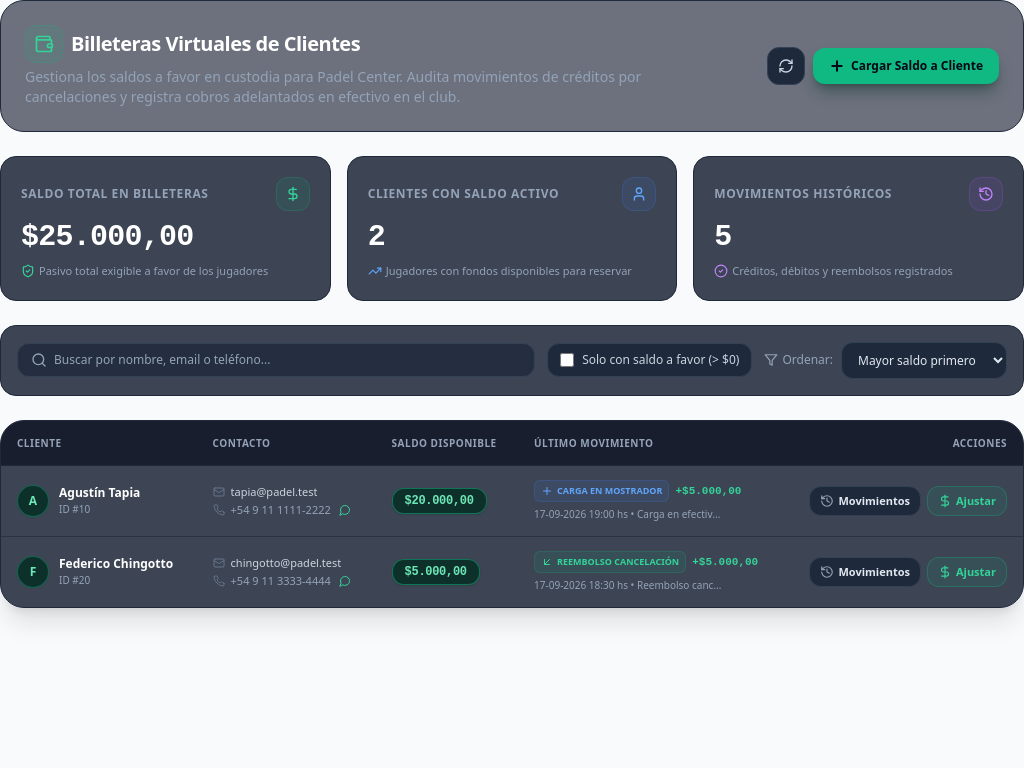
it: GestionBilleteras Component › abre el modal de movimientos al hacer clic en 'Movimientos'
Click the button with test id "btn-historial-10" at (865, 500), box [809,486,921,516]
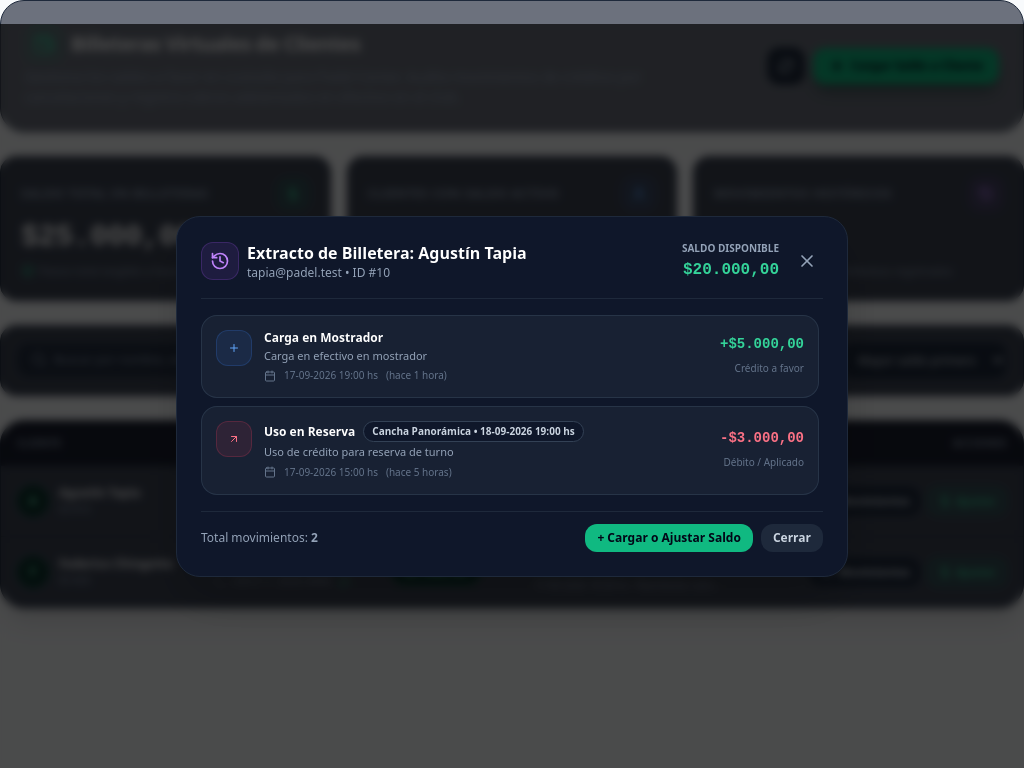
Check: the element with test id "modal-historial-movimientos" is shown
Check: the heading "Extracto de Billetera: Agustín Tapia" is shown, box [247,240,527,264]
Check: the text "-$3.000,00" is shown, box [720,428,804,448]
